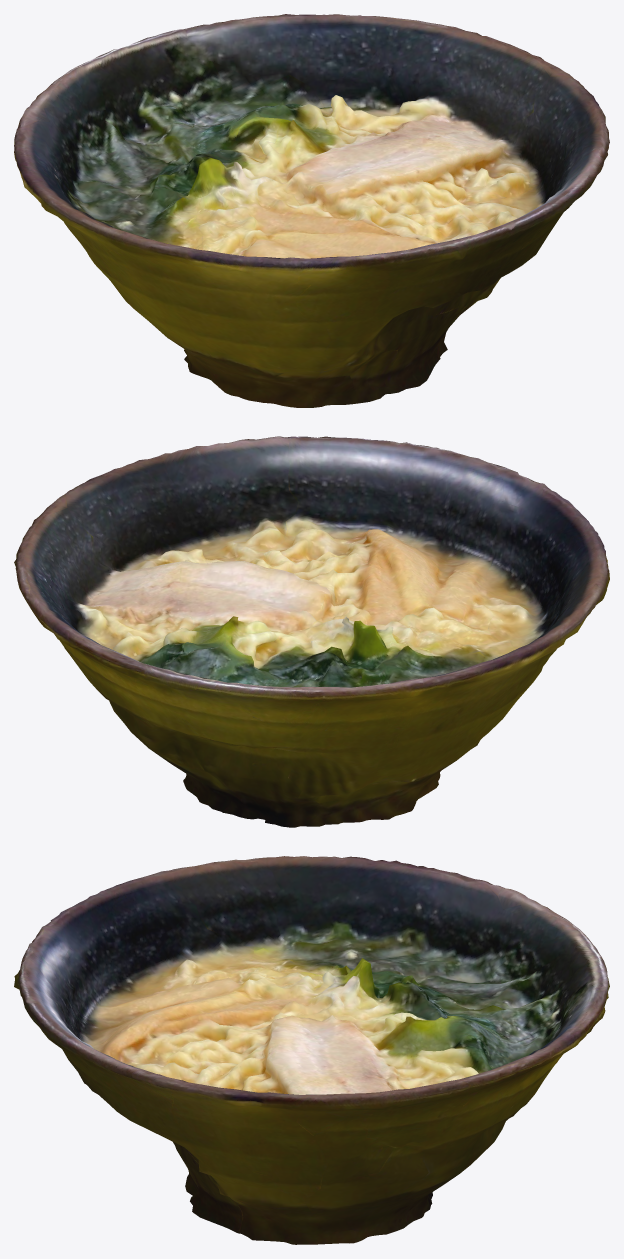
The model's file is MisoRamen.glb.
3 views of the same model, one above another, from view 1: azimuth 30°, elevation 25°; view 2: azimuth 150°, elevation 25°; view 3: azimuth 270°, elevation 25° (orthographic).
Parts seen in each view (by area): view 1: Object_2; view 2: Object_2; view 3: Object_2.
Part boxes in pixels (x1,y1,x2,y2): Object_2: (14,14,609,407); Object_2: (14,436,609,827); Object_2: (14,856,609,1244).
Bounding box in the file's own units: 0.2315 × 0.0935 × 0.2324.
Materials: 1 (1 with a texture image).
